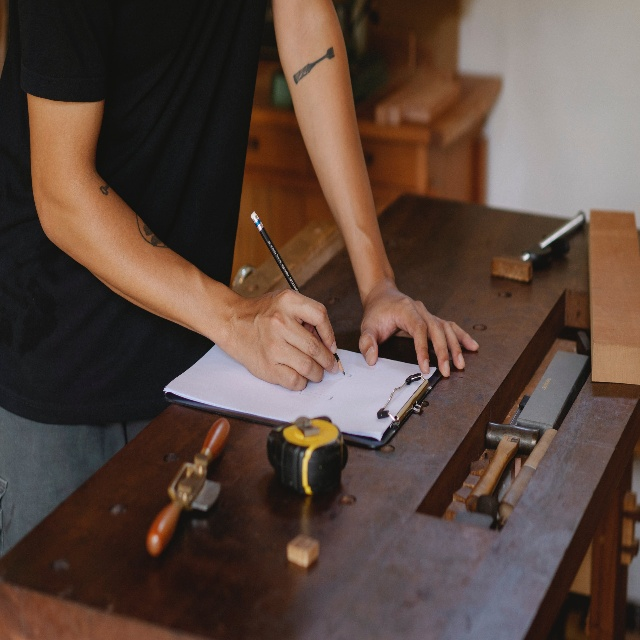Sin_guantes: (359, 279, 480, 379), (224, 288, 340, 391)
